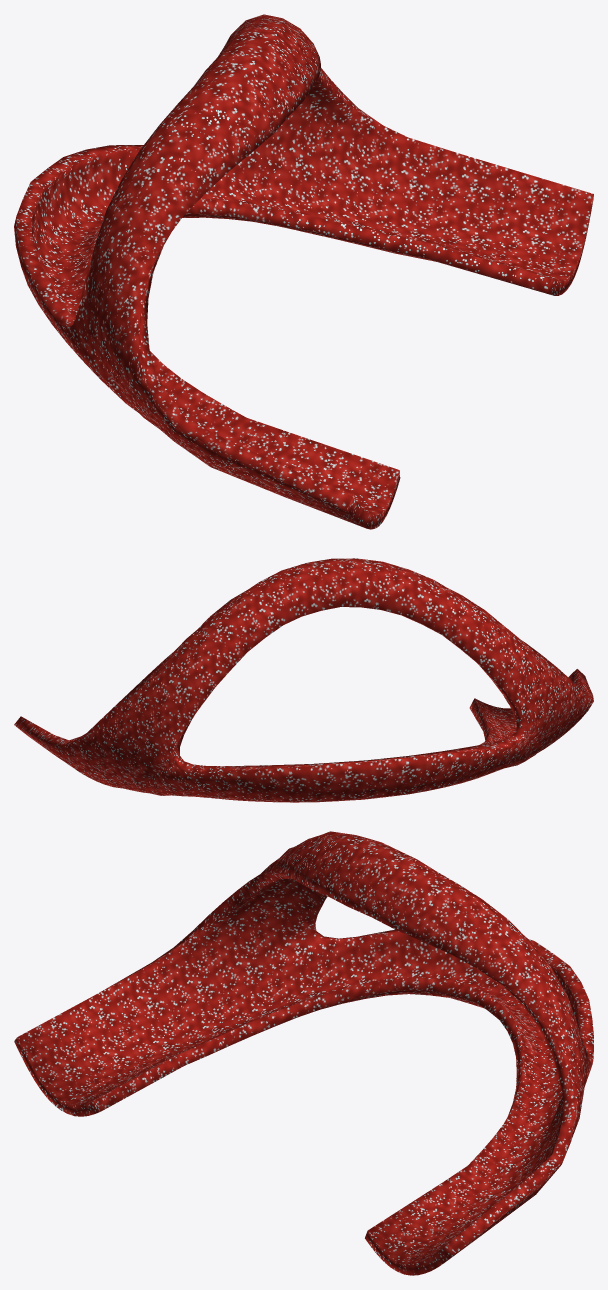
Rendered from bridgemushroom.glb.
3 views of the same model, one above another, from view 1: azimuth 30°, elevation 25°; view 2: azimuth 150°, elevation 25°; view 3: azimuth 270°, elevation 25° (orthographic). The views are drawn at different scales.
Visible parts, largest first — view 1: BridgeMushroom; view 2: BridgeMushroom; view 3: BridgeMushroom.
Part boxes in pixels (x1,y1,x2,y2): BridgeMushroom: [14, 14, 593, 529]; BridgeMushroom: [14, 558, 593, 802]; BridgeMushroom: [14, 831, 593, 1275].
Size of what is drawn, in the model's own units: 28.88 by 15.11 by 27.8.
Materials: 1 (1 with a texture image).
